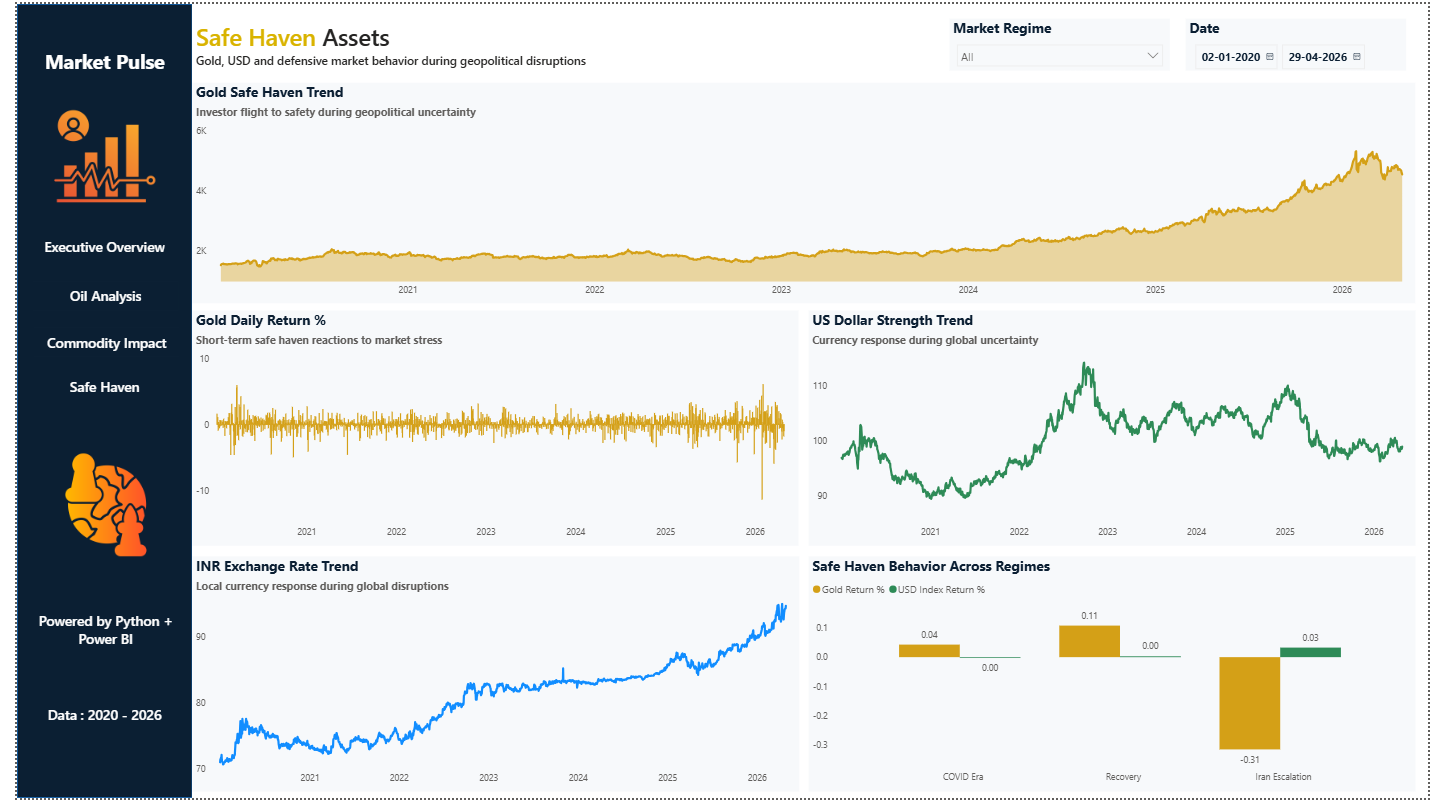

What the dashboard file says about the page in this screenshot:
{"tool":"powerbi","page":{"name":"Page 4","canvas":[1920,1080],"ordinal":3},"visuals":[{"type":"textbox","box":[238.6,18.6,658.6,88.6],"z":0},{"type":"slicer","title":"Date","fields":{"Values":["master_market_features.Date"]},"box":[1590,20,300,70],"z":1000},{"type":"slicer","title":"Market Regime","fields":{"Values":["master_market_features.Market_Regime"]},"box":[1268.6,20,300,70],"z":2000},{"type":"areaChart","title":"Gold Safe Haven Trend","fields":{"Category":["master_market_features.Date"],"Y":["Avg(master_market_features.Gold)"]},"box":[238.6,107.1,1664.3,300],"z":3000},{"type":"clusteredColumnChart","title":"Gold Daily Return %","fields":{"Y":["Avg(master_market_features.Gold_Return)"],"Category":["master_market_features.Date"]},"box":[238.6,417.1,825,320],"z":4000},{"type":"lineChart","title":"US Dollar Strength Trend","fields":{"Category":["master_market_features.Date"],"Y":["Avg(master_market_features.USD_Index)"]},"box":[1077.1,417.1,825.7,320],"z":5000},{"type":"lineChart","title":"INR Exchange Rate Trend","fields":{"Category":["master_market_features.Date"],"Y":["Avg(master_market_features.INR_USD)"]},"box":[238.6,751.4,825.7,320],"z":6000},{"type":"clusteredColumnChart","title":"Safe Haven Behavior Across Regimes","fields":{"Category":["master_market_features.Market_Regime"],"Y":["Avg(master_market_features.Gold_Return)","Avg(master_market_features.USD_Index_Return)"]},"box":[1077.1,751.4,825.7,320],"z":7000},{"type":"shape","box":[0,0,238.6,1080],"z":7001},{"type":"textbox","box":[20,55.7,198.6,62.9],"z":7002},{"type":"image","box":[34.3,137.1,170,140],"z":7003},{"type":"actionButton","box":[20,310,198.6,40],"z":7004},{"type":"actionButton","box":[21.4,377.1,198.6,40],"z":7005},{"type":"actionButton","box":[22.9,440,198.6,40],"z":7006},{"type":"actionButton","box":[20,500,198.6,40],"z":7007},{"type":"image","box":[35.7,611.4,170,140],"z":7008},{"type":"textbox","box":[21.4,821.4,198.6,78.6],"z":7009},{"type":"textbox","box":[20,950,198.6,55.7],"z":7010}]}

Visuals, with their boxes on the page's 1920x1080 design canvas (x1, y1, x2, y2). These are canvas units, not pixel positions in the 1435x805 screenshot, which may show the page scaled, cropped or inside an application window:
textbox: locate(239, 19, 897, 107)
"Date" slicer: locate(1590, 20, 1890, 90)
"Market Regime" slicer: locate(1269, 20, 1569, 90)
"Gold Safe Haven Trend" areaChart: locate(239, 107, 1903, 407)
"Gold Daily Return %" clusteredColumnChart: locate(239, 417, 1064, 737)
"US Dollar Strength Trend" lineChart: locate(1077, 417, 1903, 737)
"INR Exchange Rate Trend" lineChart: locate(239, 751, 1064, 1071)
"Safe Haven Behavior Across Regimes" clusteredColumnChart: locate(1077, 751, 1903, 1071)
shape: locate(0, 0, 239, 1080)
textbox: locate(20, 56, 219, 119)
image: locate(34, 137, 204, 277)
actionButton: locate(20, 310, 219, 350)
actionButton: locate(21, 377, 220, 417)
actionButton: locate(23, 440, 222, 480)
actionButton: locate(20, 500, 219, 540)
image: locate(36, 611, 206, 751)
textbox: locate(21, 821, 220, 900)
textbox: locate(20, 950, 219, 1006)
